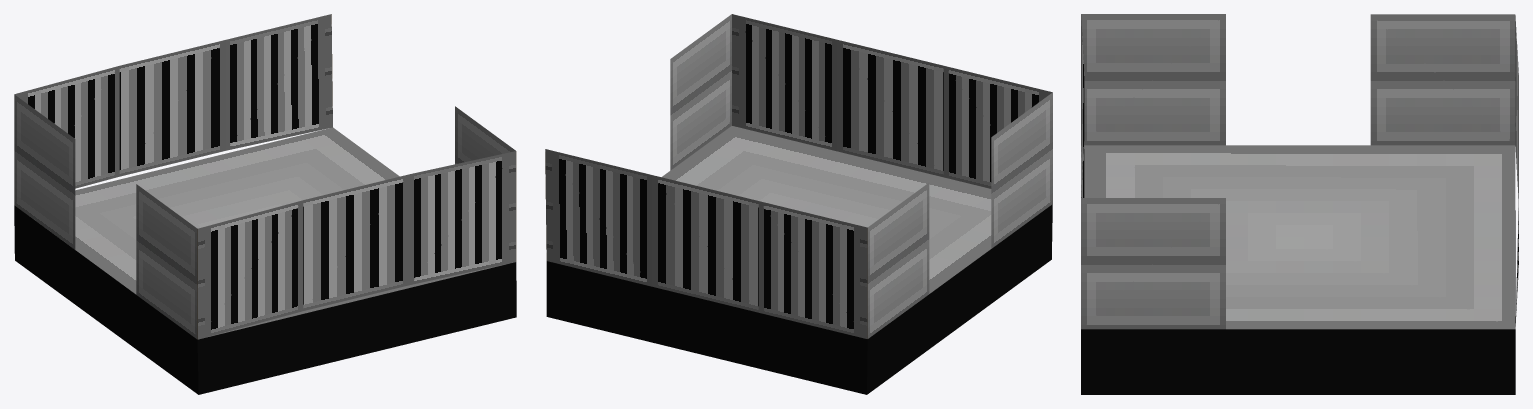
The model's file is PrisonSquare.gltf.
3 renders of one model, left to right at view 1: azimuth 30°, elevation 25°; view 2: azimuth 150°, elevation 25°; view 3: azimuth 270°, elevation 25°, orthographic. The views are drawn at different scales.
Parts seen in each view (by area): view 1: PrisonSquare; view 2: PrisonSquare; view 3: PrisonSquare.
Part boxes in pixels (bbox=[...]): PrisonSquare: bbox=[14, 14, 516, 394]; PrisonSquare: bbox=[545, 14, 1052, 394]; PrisonSquare: bbox=[1081, 14, 1518, 394].
Bounding box in the file's own units: 6.02 × 3.02 × 6.05.
Materials: 2 (1 with a texture image).
